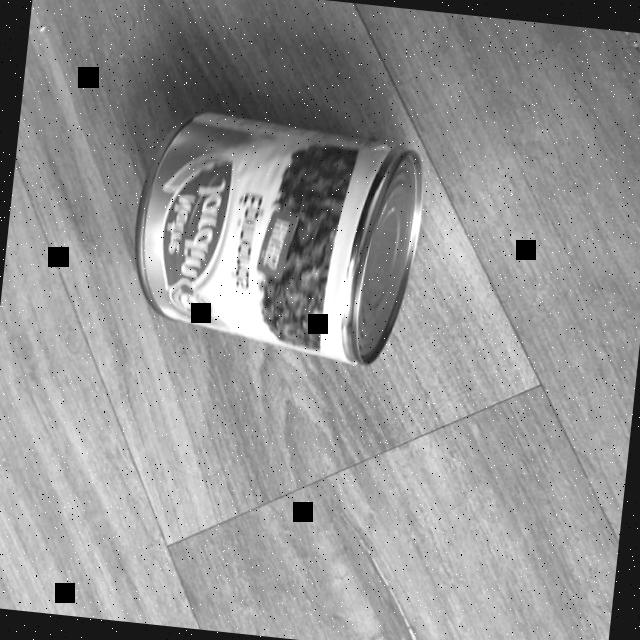can: (120, 101, 433, 371)
